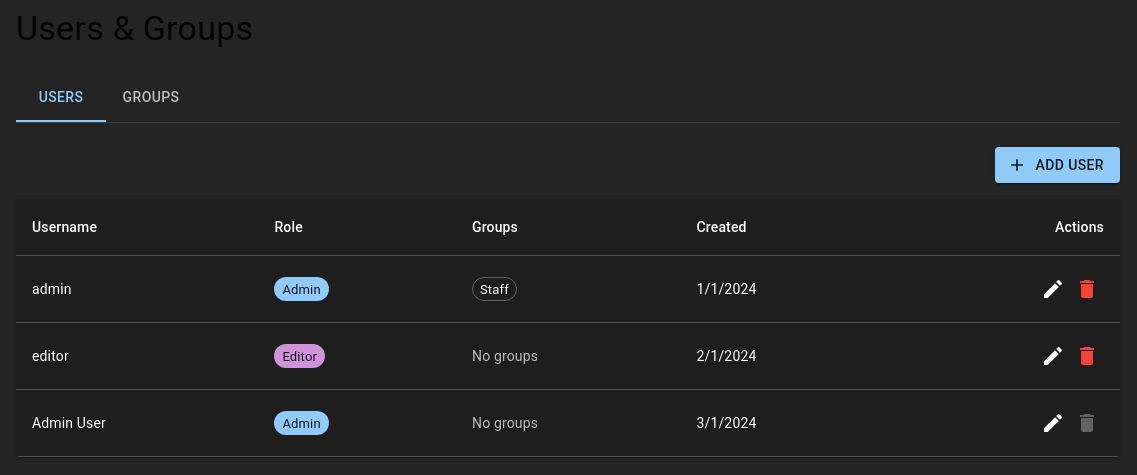
Test: UsersPage › group operations › deletes group when confirmed
Click the tab "Groups".
click(151, 98)  # box [106,74,196,122]
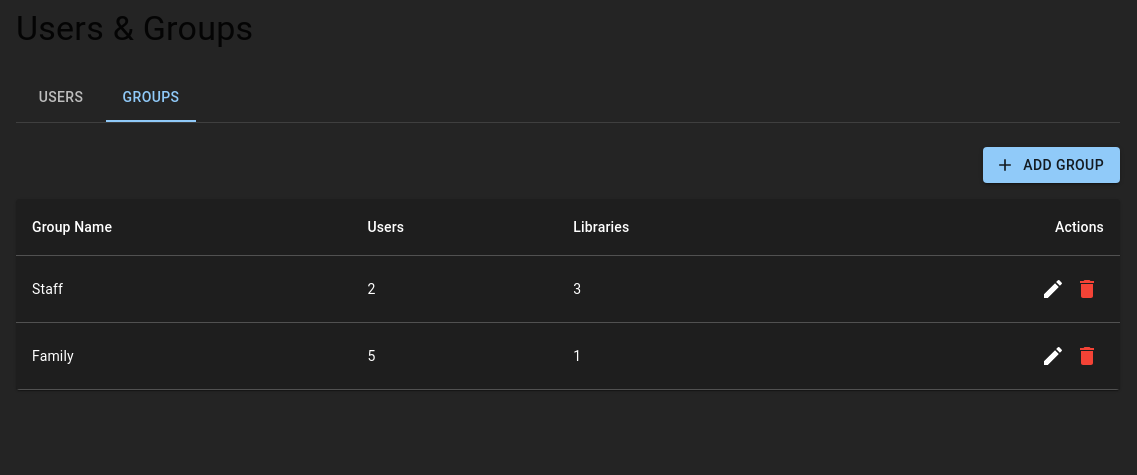
Click the button with test id "DeleteIcon".
click(1087, 290)  # box [1070,272,1104,306]
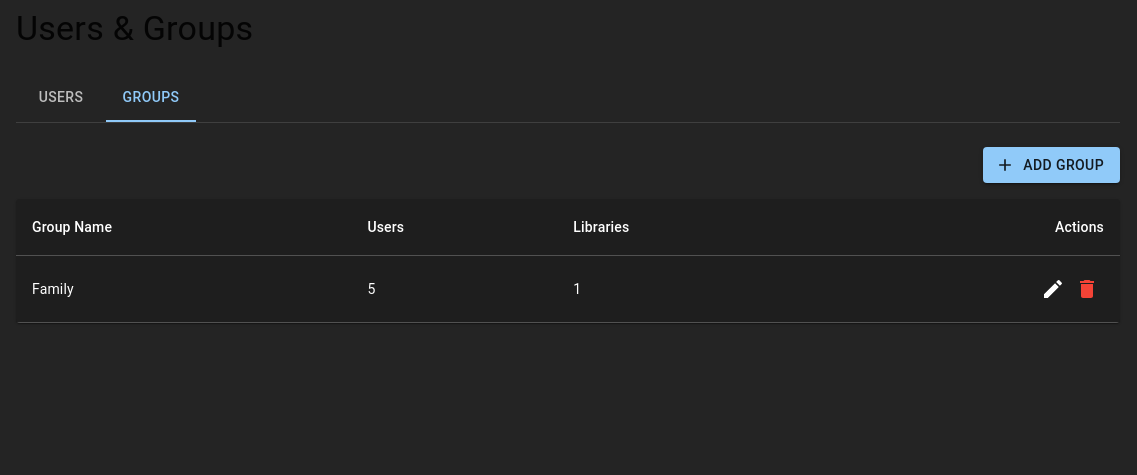
Expected: the text "Staff" is gone
